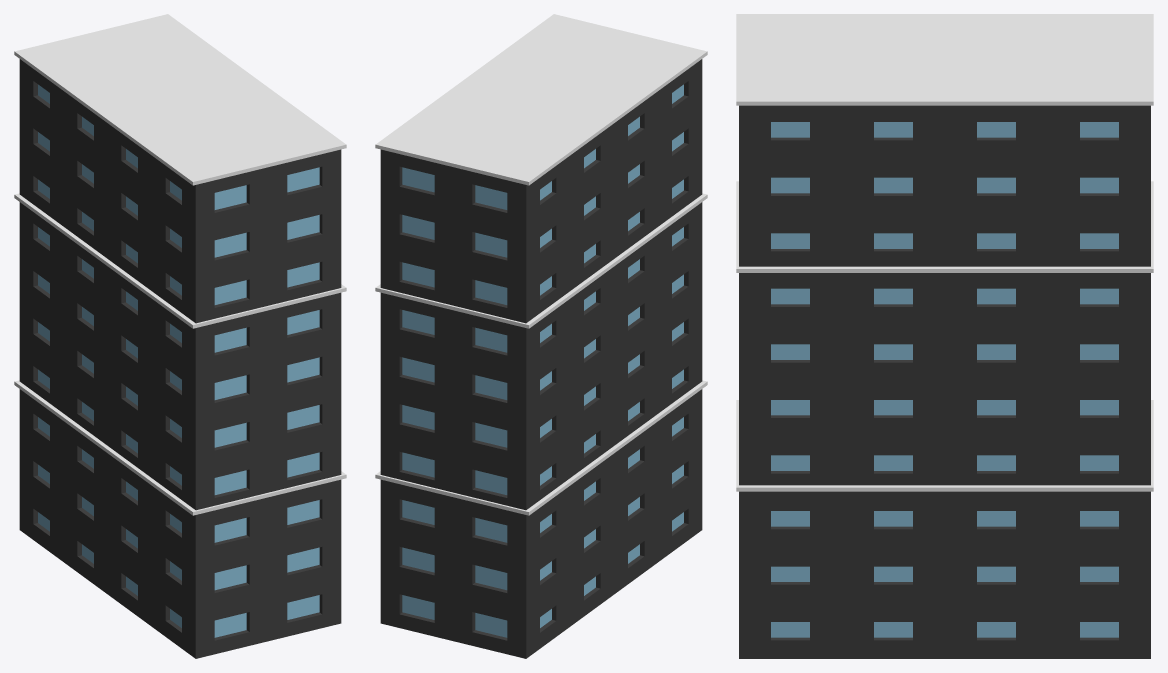
Rendered from building4.glb.
The picture shows the model from 3 angles, left to right: view 1: azimuth 30°, elevation 25°; view 2: azimuth 150°, elevation 25°; view 3: azimuth 270°, elevation 25°; orthographic projection. The views are drawn at different scales.
Parts seen in each view (by area): view 1: Cube; view 2: Cube; view 3: Cube.
Part boxes in pixels (x1,y1,x2,y2): Cube: [14, 14, 346, 658]; Cube: [375, 14, 707, 658]; Cube: [736, 14, 1153, 658].
Size of the model in its own units: 2.11 by 6.29 by 4.25.
Materials: 1 (1 with a texture image).
